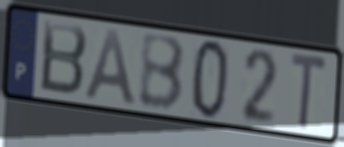0: (189, 37, 231, 121)
2: (241, 47, 279, 128)
A: (82, 26, 140, 110)
B: (38, 18, 89, 99), (138, 33, 188, 114)
T: (289, 49, 330, 133)
